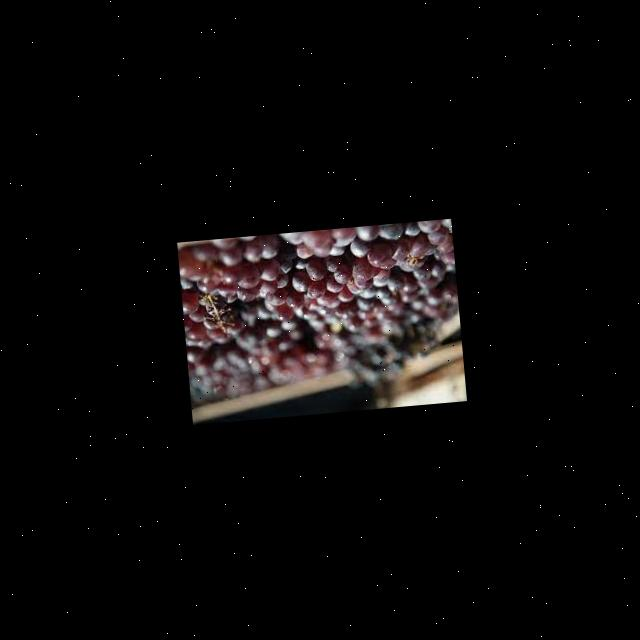grape: (176, 218, 464, 405)
